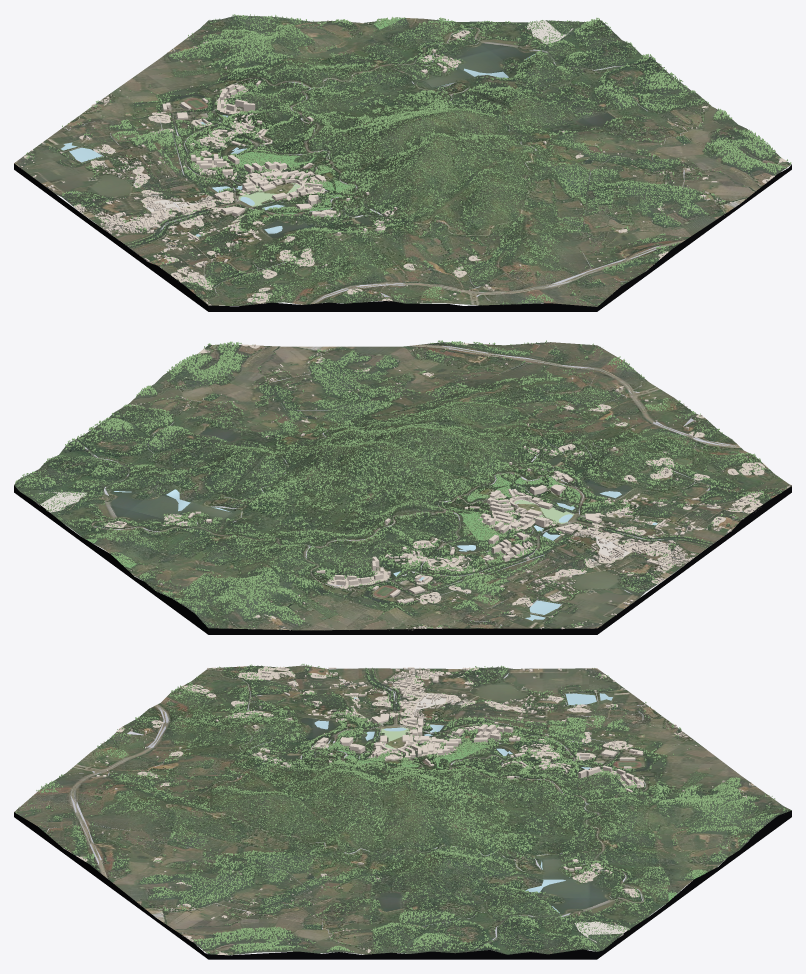
The model's file is mfu-map.glb.
3 renders of one model, top to bottom at view 1: azimuth 30°, elevation 25°; view 2: azimuth 150°, elevation 25°; view 3: azimuth 270°, elevation 25°, orthographic.
Parts seen in each view (by area): view 1: tinMesh, clipSide; view 2: tinMesh, clipSide; view 3: tinMesh, clipSide.
Boxes of the visible parts, bbox=[...] form: tinMesh: bbox=[14, 15, 791, 306]; clipSide: bbox=[14, 14, 791, 311]; tinMesh: bbox=[14, 342, 791, 630]; clipSide: bbox=[14, 340, 791, 634]; tinMesh: bbox=[14, 665, 790, 955]; clipSide: bbox=[14, 664, 791, 959].
Size of the model in its own units: 4478 by 343 by 5162.
Materials: 2 (2 with a texture image).
